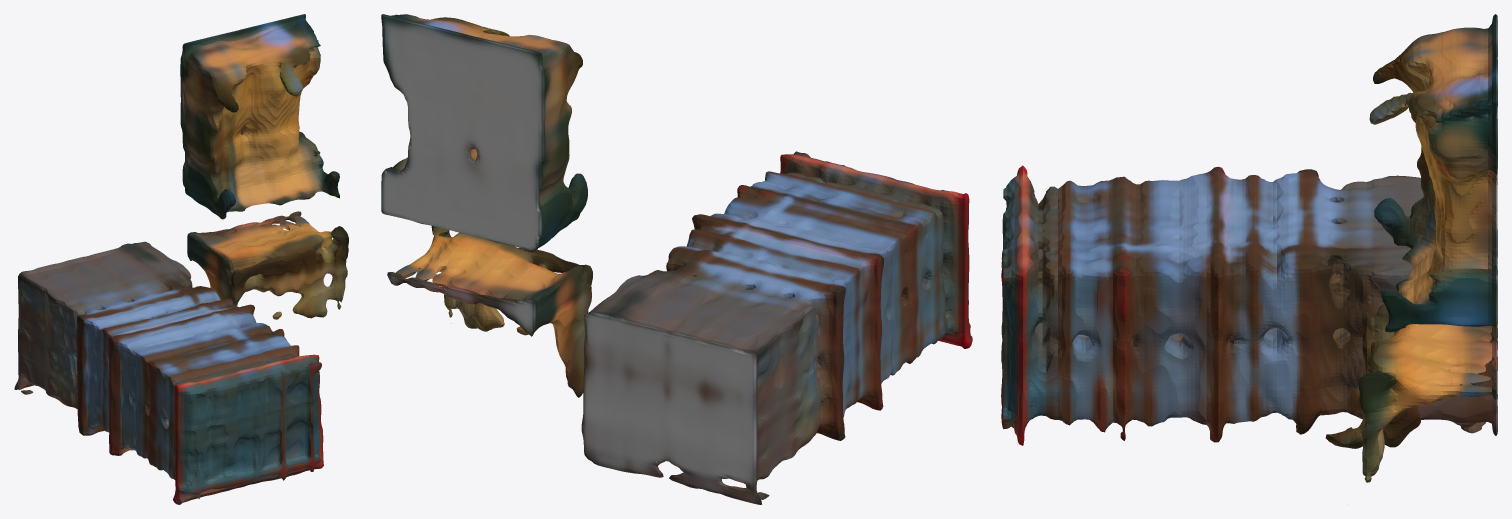
3 views of the same model, side by side, from view 1: azimuth 30°, elevation 25°; view 2: azimuth 150°, elevation 25°; view 3: azimuth 270°, elevation 25° (orthographic). The views are drawn at different scales.
Parts seen in each view (by area): view 1: model.ply; view 2: model.ply; view 3: model.ply.
Boxes of the visible parts, <box> form: model.ply: <box>14,14,348,504</box>; model.ply: <box>381,14,972,504</box>; model.ply: <box>1001,14,1497,482</box>.
Size of the model in its own units: 1.98 by 1.98 by 1.97.
